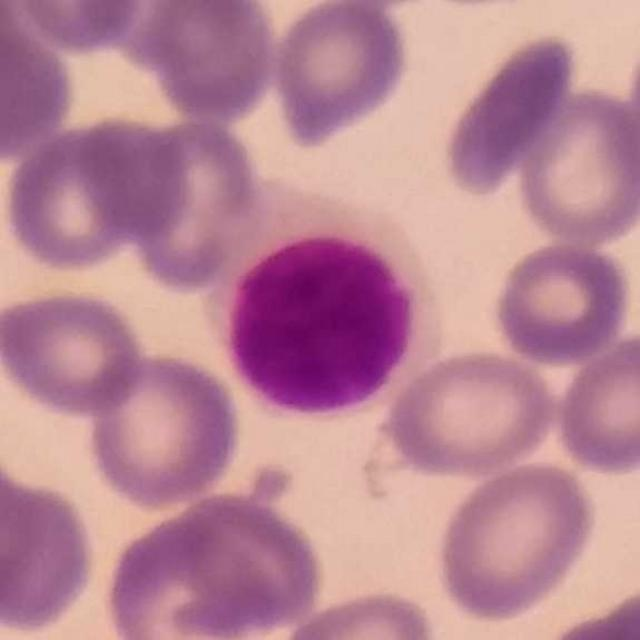Lymphocyte: (211, 179, 440, 424)
RBC: (96, 488, 329, 640), (0, 113, 181, 276), (432, 456, 601, 624), (115, 112, 269, 293), (81, 346, 246, 512), (375, 344, 560, 481), (436, 28, 582, 201), (267, 1, 414, 151), (512, 85, 640, 248), (0, 284, 149, 421), (488, 237, 636, 367), (127, 0, 280, 125), (0, 464, 101, 638), (551, 328, 640, 479), (0, 13, 79, 164), (272, 584, 446, 640), (0, 442, 47, 622), (4, 0, 148, 57), (535, 586, 639, 640), (622, 26, 640, 206), (591, 581, 640, 640)
